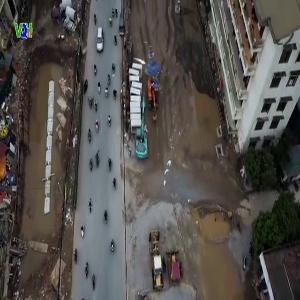drone: (125, 41, 179, 95)
